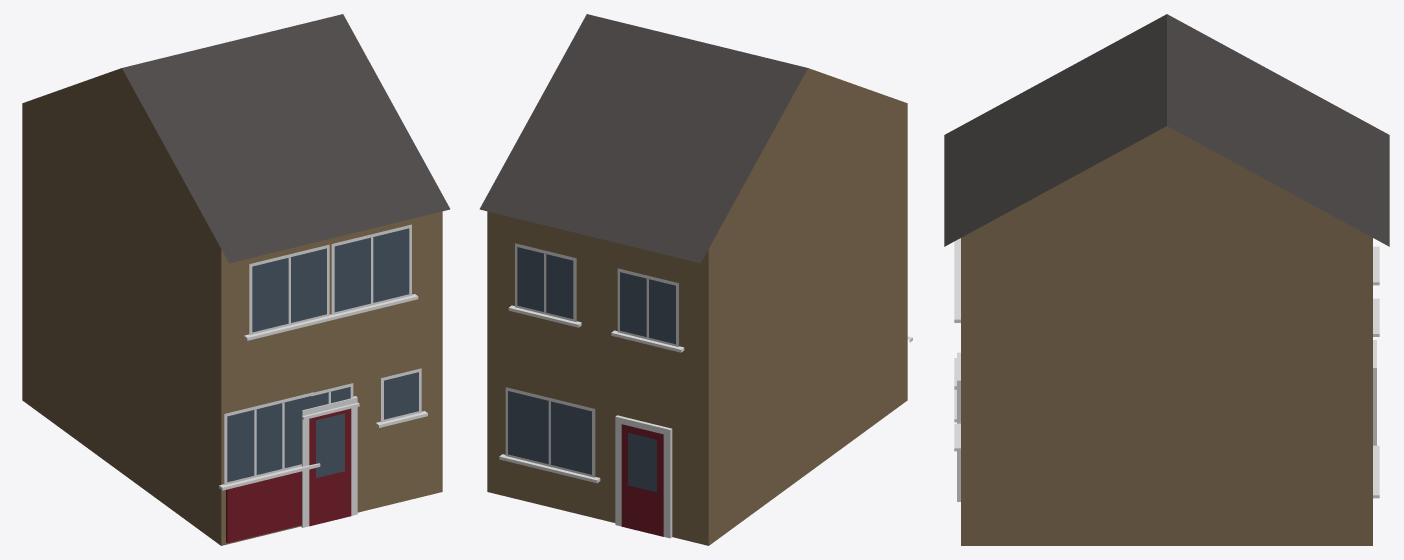
File: nw-rowhouse-red-panel-door__yellow-red__2__gable__long__solid.glb
The picture shows the model from 3 angles, left to right: view 1: azimuth 30°, elevation 25°; view 2: azimuth 150°, elevation 25°; view 3: azimuth 270°, elevation 25°; orthographic projection. The views are drawn at different scales.
Parts seen in each view (by area): view 1: nw-rowhouse-red-panel-door__yellow-red__2__gable__long__soli; view 2: nw-rowhouse-red-panel-door__yellow-red__2__gable__long__soli; view 3: nw-rowhouse-red-panel-door__yellow-red__2__gable__long__soli.
Part boxes in pixels (x1,y1,x2,y2): nw-rowhouse-red-panel-door__yellow-red__2__gable__long__soli: (22,14,450,545); nw-rowhouse-red-panel-door__yellow-red__2__gable__long__soli: (479,14,912,545); nw-rowhouse-red-panel-door__yellow-red__2__gable__long__soli: (944,14,1389,545).
Size of the model in its own units: 4.79 by 8.3 by 7.98.
